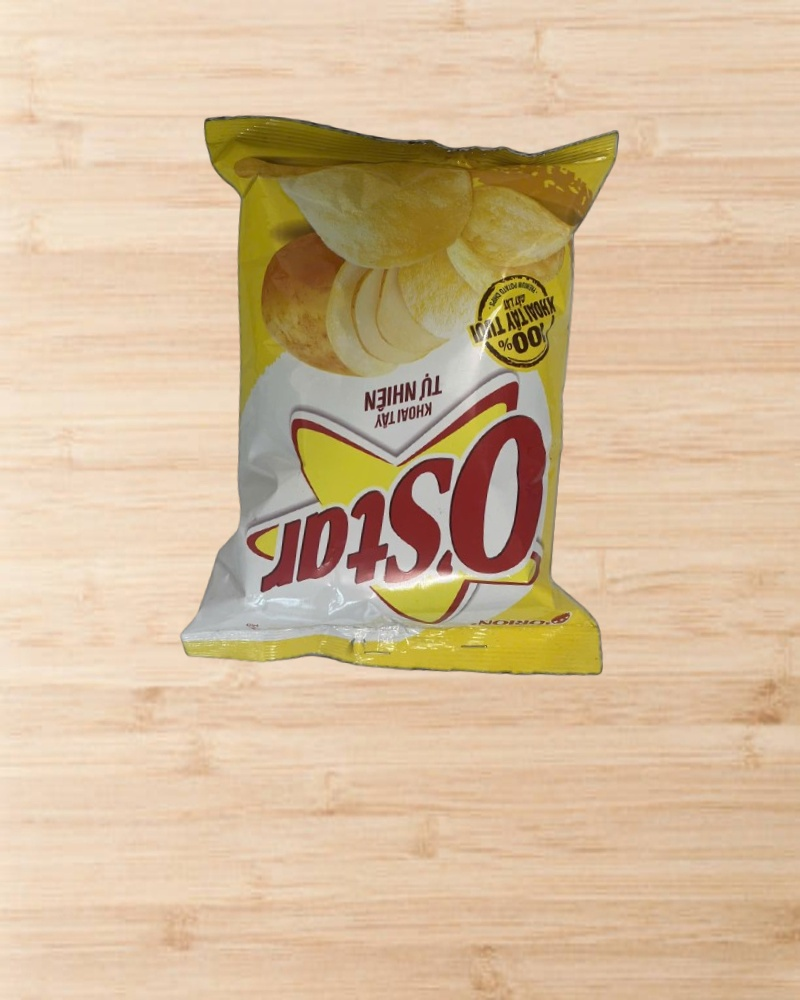Snack cua: (164, 102, 647, 686)
